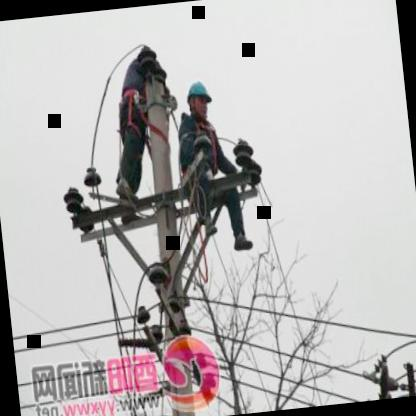helmet: (181, 74, 215, 122)
